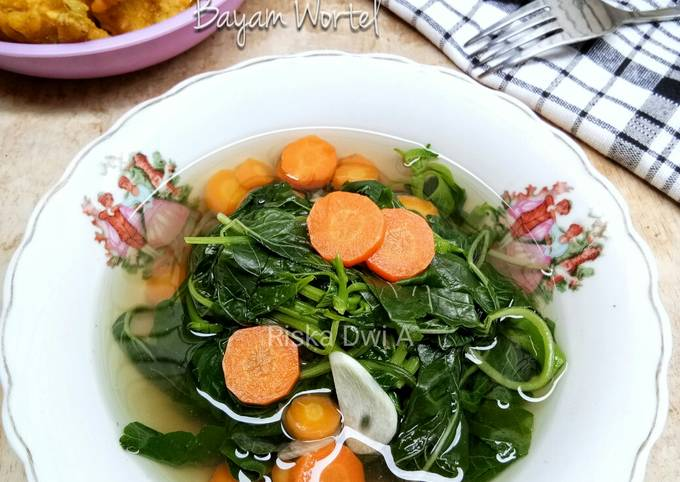Sayur Bayam: (132, 143, 571, 482)
